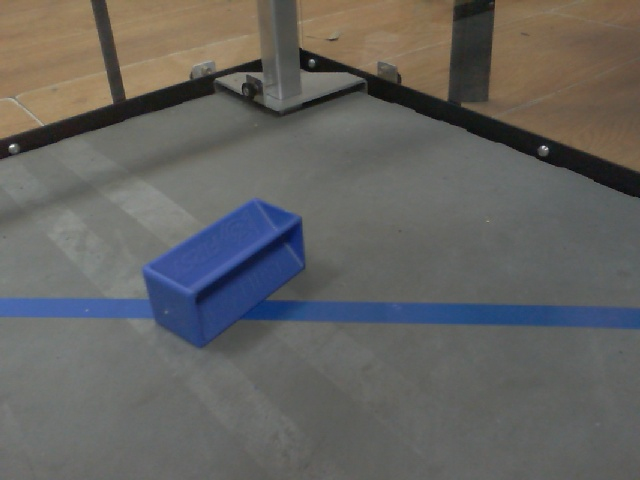BlueSample: (140, 194, 310, 352)
